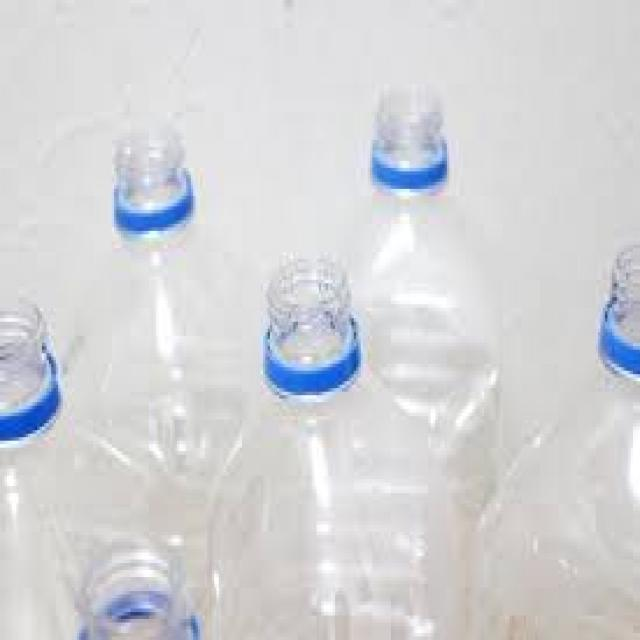Plastic: (203, 262, 463, 640), (340, 99, 520, 510), (0, 292, 208, 640), (63, 127, 270, 474), (464, 240, 640, 640)
